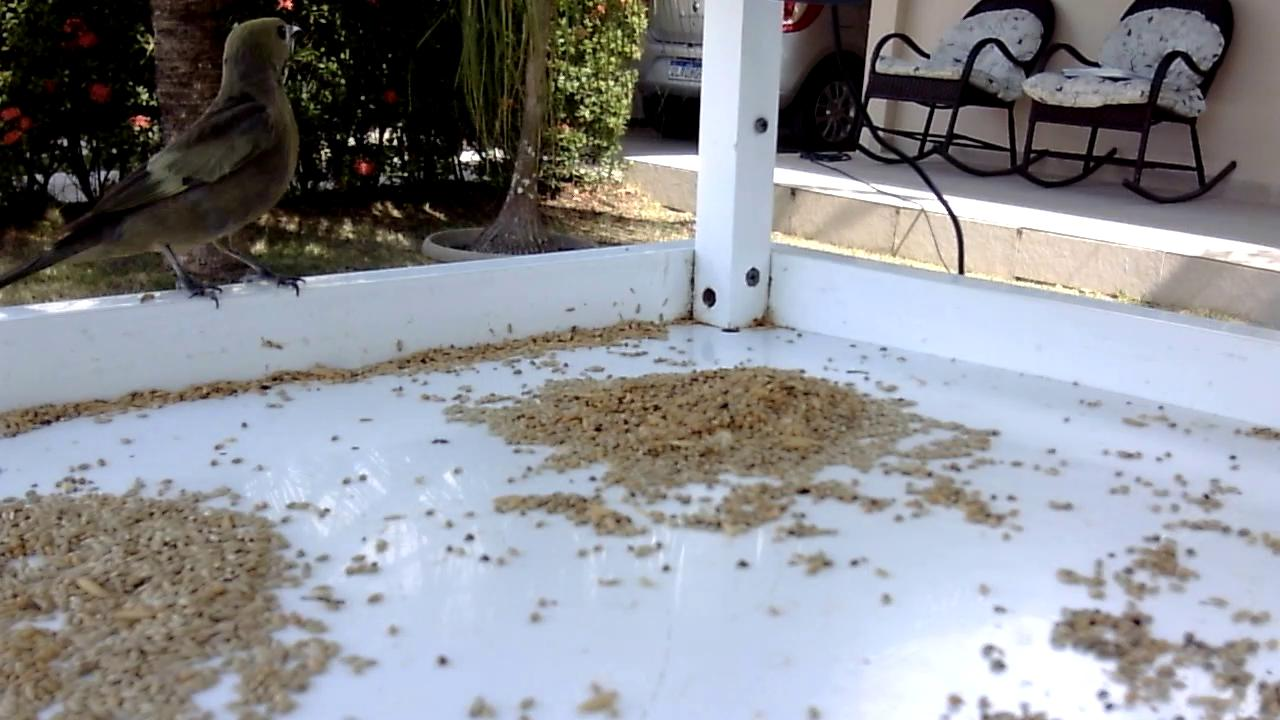sanhaco_do_coqueiro: (1, 19, 306, 313)
